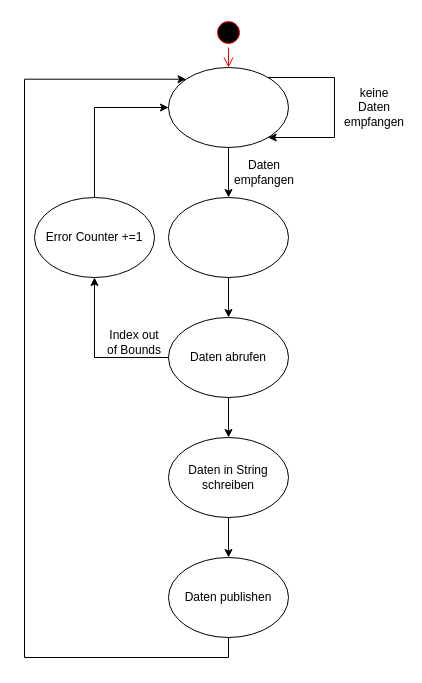
Image size: 422x683. Some labels were removed from this diagram. The centre of each missing label's shape, as x and y in pixels:
Daten auftrennen: point 228,237
Warten auf Daten: point 228,107
